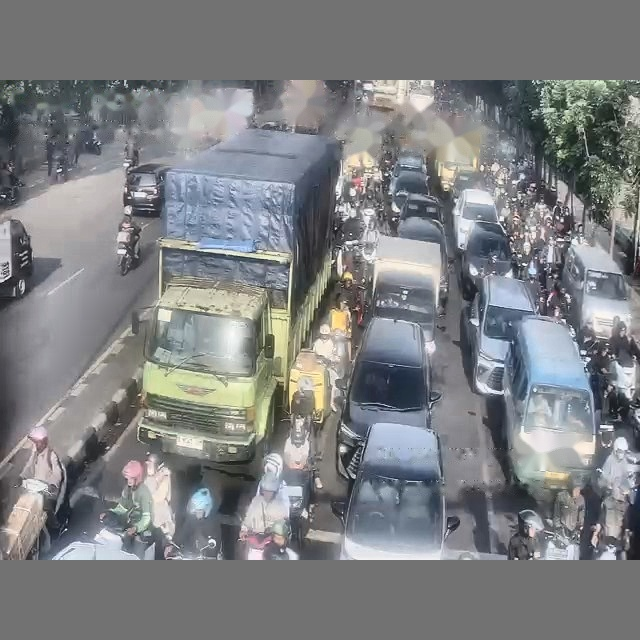Mobil: (331, 423, 459, 559), (336, 317, 441, 478), (463, 275, 536, 395), (397, 217, 449, 307), (460, 222, 512, 300), (452, 189, 498, 250), (0, 212, 33, 297), (123, 163, 169, 215), (391, 172, 430, 222), (389, 156, 427, 193), (399, 194, 443, 223), (452, 168, 482, 196)
Motor: (165, 538, 222, 560), (544, 529, 579, 559), (116, 230, 138, 275), (84, 133, 101, 155)
Truk: (132, 129, 339, 474)
